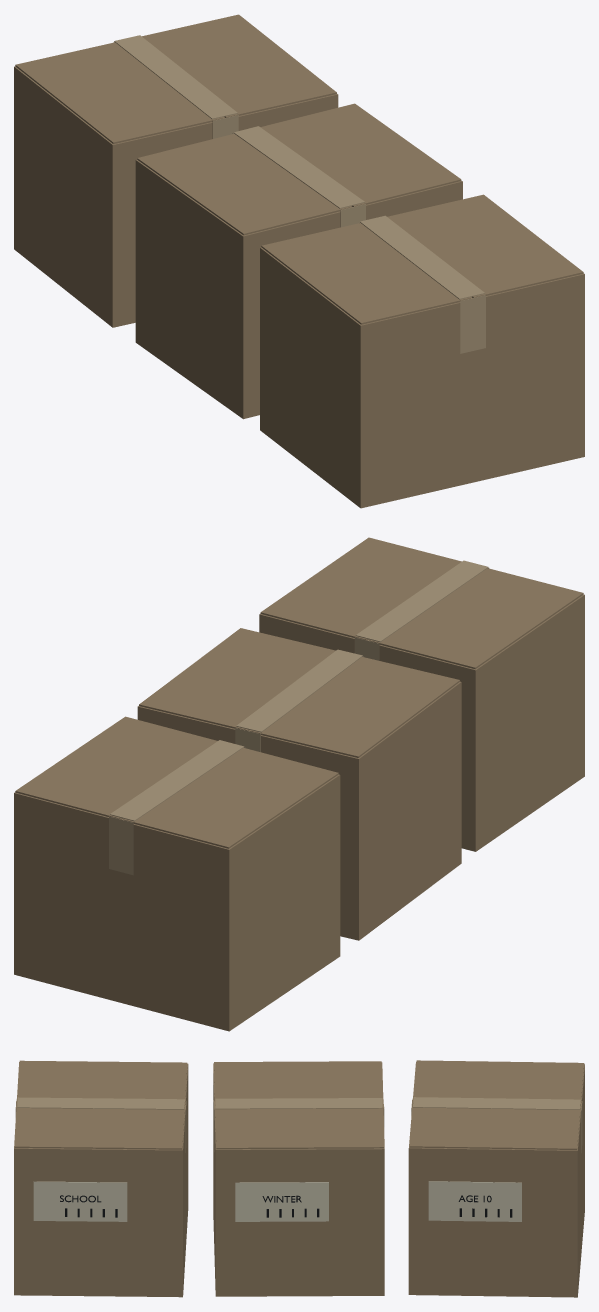
Rendered from storage-boxes.glb.
3 renders of one model, top to bottom at view 1: azimuth 30°, elevation 25°; view 2: azimuth 150°, elevation 25°; view 3: azimuth 270°, elevation 25°, orthographic. The views are drawn at different scales.
Visible parts, largest first — view 1: Corrugated cardboard, Corrugated cardboard.001, Corrugated cardboard.002, Top flap.002, Top flap, Top flap.004, Top flap.005, Top flap.001, Top flap.003, Tape seam.001, Tape seam, Tape seam.002 (+1 smaller); view 2: Corrugated cardboard.002, Corrugated cardboard, Corrugated cardboard.001, Top flap.004, Top flap, Top flap.002, Top flap.003, Top flap.001, Top flap.005, Tape seam.002, Tape seam, Tape seam.001 (+1 smaller); view 3: Corrugated cardboard.002, Corrugated cardboard, Corrugated cardboard.001, Top flap.001, Top flap.005, Top flap.003, Top flap.004, Top flap.002, Top flap, Inventory label, Inventory label.002, Inventory label.001 (+3 smaller).
Boxes of the visible parts, <box> form: Corrugated cardboard: <box>260,247,584,508</box>; Corrugated cardboard.001: <box>135,160,462,419</box>; Corrugated cardboard.002: <box>14,66,338,327</box>; Top flap.002: <box>137,133,351,235</box>; Top flap: <box>261,223,470,324</box>; Top flap.004: <box>15,42,223,143</box>; Top flap.005: <box>142,14,336,117</box>; Top flap.001: <box>387,194,583,297</box>; Top flap.003: <box>260,103,461,206</box>; Tape seam.001: <box>233,126,364,208</box>; Tape seam: <box>360,215,484,299</box>; Tape seam.002: <box>114,35,237,119</box>; Corrugated cardboard.002: <box>14,774,340,1031</box>; Corrugated cardboard: <box>259,594,584,851</box>; Corrugated cardboard.001: <box>137,681,461,940</box>; Top flap.004: <box>123,747,338,848</box>; Top flap: <box>369,568,583,669</box>; Top flap.002: <box>250,657,459,757</box>; Top flap.003: <box>139,628,335,730</box>; Top flap.001: <box>260,537,461,640</box>; Top flap.005: <box>15,716,217,819</box>; Tape seam.002: <box>110,740,244,821</box>; Tape seam: <box>355,560,488,642</box>; Tape seam.001: <box>236,649,362,732</box>; Corrugated cardboard.002: <box>408,1061,584,1297</box>; Corrugated cardboard: <box>14,1062,188,1297</box>; Corrugated cardboard.001: <box>213,1062,384,1296</box>; Top flap.001: <box>14,1106,184,1149</box>; Top flap.005: <box>409,1106,580,1149</box>; Top flap.003: <box>215,1105,383,1149</box>; Top flap.004: <box>413,1060,584,1105</box>; Top flap.002: <box>214,1061,382,1105</box>; Top flap: <box>17,1060,187,1105</box>; Inventory label: <box>33,1181,127,1221</box>; Inventory label.002: <box>428,1181,521,1221</box>; Inventory label.001: <box>235,1182,328,1221</box>.
Bounding box in the file's own units: 0.5861 × 0.459 × 1.59.
